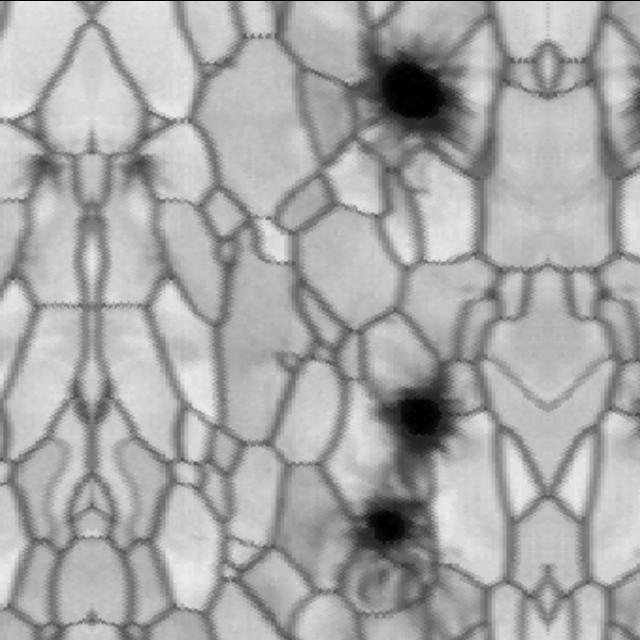good_void: (317, 7, 500, 215), (340, 337, 509, 518), (338, 488, 443, 610), (100, 127, 175, 219), (8, 127, 79, 218), (584, 270, 625, 315), (471, 269, 509, 312)
